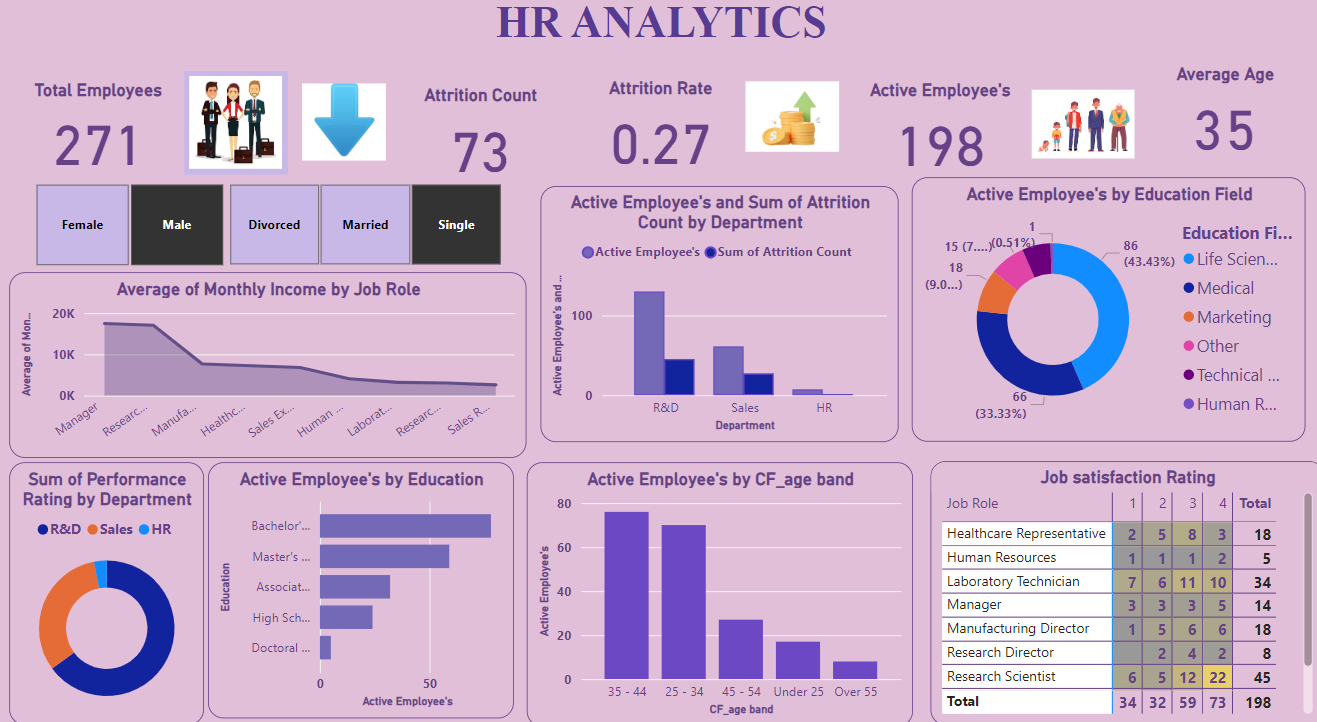

Layout of this report page (visuals, bound fields, positions):
{"tool":"powerbi","page":{"name":"Page 1","canvas":[1280,720],"ordinal":0},"visuals":[{"type":"card","title":"Total Employees","fields":{"Values":["Sum(HR data.Employee Count)"]},"box":[0,70.6,164.7,94.7],"z":0,"group":"g1"},{"type":"clusteredColumnChart","fields":{"Category":["HR data.Department"],"Y":["HR data.Active Employee's","Sum(HR data.Attrition Count)"]},"box":[523.2,187.8,345.8,247.4],"z":0},{"type":"card","title":"Attrition Count","fields":{"Values":["Sum(HR data.Attrition Count)"]},"box":[292,68.2,167.7,97.7],"z":1000,"group":"g1"},{"type":"donutChart","fields":{"Y":["HR data.Active Employee's"],"Category":["HR data.Education Field"]},"box":[882.4,180.3,380.1,254.9],"z":1000},{"type":"card","title":"Attrition Rate","fields":{"Values":["HR data.Attrition Rate"]},"box":[548.2,69.2,155.1,96.1],"z":2000,"group":"g1"},{"type":"columnChart","fields":{"Y":["HR data.Active Employee's"],"Category":["HR data.CF_age band"]},"box":[509.7,454.6,372.6,254.9],"z":2000},{"type":"card","title":"Active Employee''s","fields":{"Values":["HR data.Active Employee's"]},"box":[812,70.6,166,96.1],"z":3000,"group":"g1"},{"type":"pivotTable","title":"Job satisfaction Rating","fields":{"Rows":["HR data.Job Role"],"Columns":["HR data.Job Satisfaction"],"Values":["HR data.Active Employee's"]},"box":[900.2,453.1,380.1,254.9],"z":3000},{"type":"card","title":"Average Age","fields":{"Values":["Avg(HR data.Age)"]},"box":[1086.8,55.5,166,96.1],"z":4000,"group":"g1"},{"type":"donutChart","fields":{"Y":["Sum(HR data.Performance Rating)"],"Category":["HR data.Department"]},"box":[10.4,454.6,187.8,253.4],"z":4000},{"type":"clusteredBarChart","fields":{"Category":["HR data.Education"],"Y":["HR data.Active Employee's"]},"box":[202.7,454.6,295.1,247.4],"z":5000},{"type":"areaChart","fields":{"Category":["HR data.Job Role"],"Y":["Avg(HR data.Monthly Income)"]},"box":[10.4,271.3,499.3,178.9],"z":6000},{"type":"slicer","fields":{"Values":["HR data.Gender"]},"box":[10.9,179.8,230.4,91.7],"z":7000},{"type":"slicer","fields":{"Values":["HR data.Marital Status"]},"box":[198.2,180.3,311.5,90.9],"z":8000},{"type":"group","id":"g1","title":"Group 1","box":[0,55.5,1252.8,111.1],"z":9000},{"type":"image","box":[978,68.5,108.8,90.9],"z":9001,"group":"g1"},{"type":"image","box":[179.5,77.3,99.7,99.7],"z":10000},{"type":"image","box":[459.7,78.4,98.9,84.5],"z":11000},{"type":"image","box":[716.9,71.5,99.9,99.9],"z":12000},{"type":"textbox","box":[0,0,1280.3,62.6],"z":13000}]}

Visuals, with their boxes in screenshot pixels (x1, y1, x2, y2), scaled from the page's 1280x720 canvas onto the 1317x722 screenshot:
"Total Employees" card: 0/71/169/166
clusteredColumnChart - HR data.Department x HR data.Active Employee's: 538/188/894/436
"Attrition Count" card: 300/68/473/166
donutChart - HR data.Active Employee's x HR data.Education Field: 908/181/1299/436
"Attrition Rate" card: 564/69/724/166
columnChart - HR data.Active Employee's x HR data.CF_age band: 524/456/908/711
"Active Employee''s" card: 835/71/1006/167
"Job satisfaction Rating" pivotTable: 926/454/1316/710
"Average Age" card: 1118/56/1289/152
donutChart - Sum(HR data.Performance Rating) x HR data.Department: 11/456/204/710
clusteredBarChart - HR data.Education x HR data.Active Employee's: 209/456/512/704
areaChart - HR data.Job Role x Avg(HR data.Monthly Income): 11/272/524/451
slicer - HR data.Gender: 11/180/248/272
slicer - HR data.Marital Status: 204/181/524/272
"Group 1" group: 0/56/1289/167
image: 1006/69/1118/160
image: 185/78/287/177
image: 473/79/575/163
image: 738/72/840/172
textbox: 0/0/1316/63
